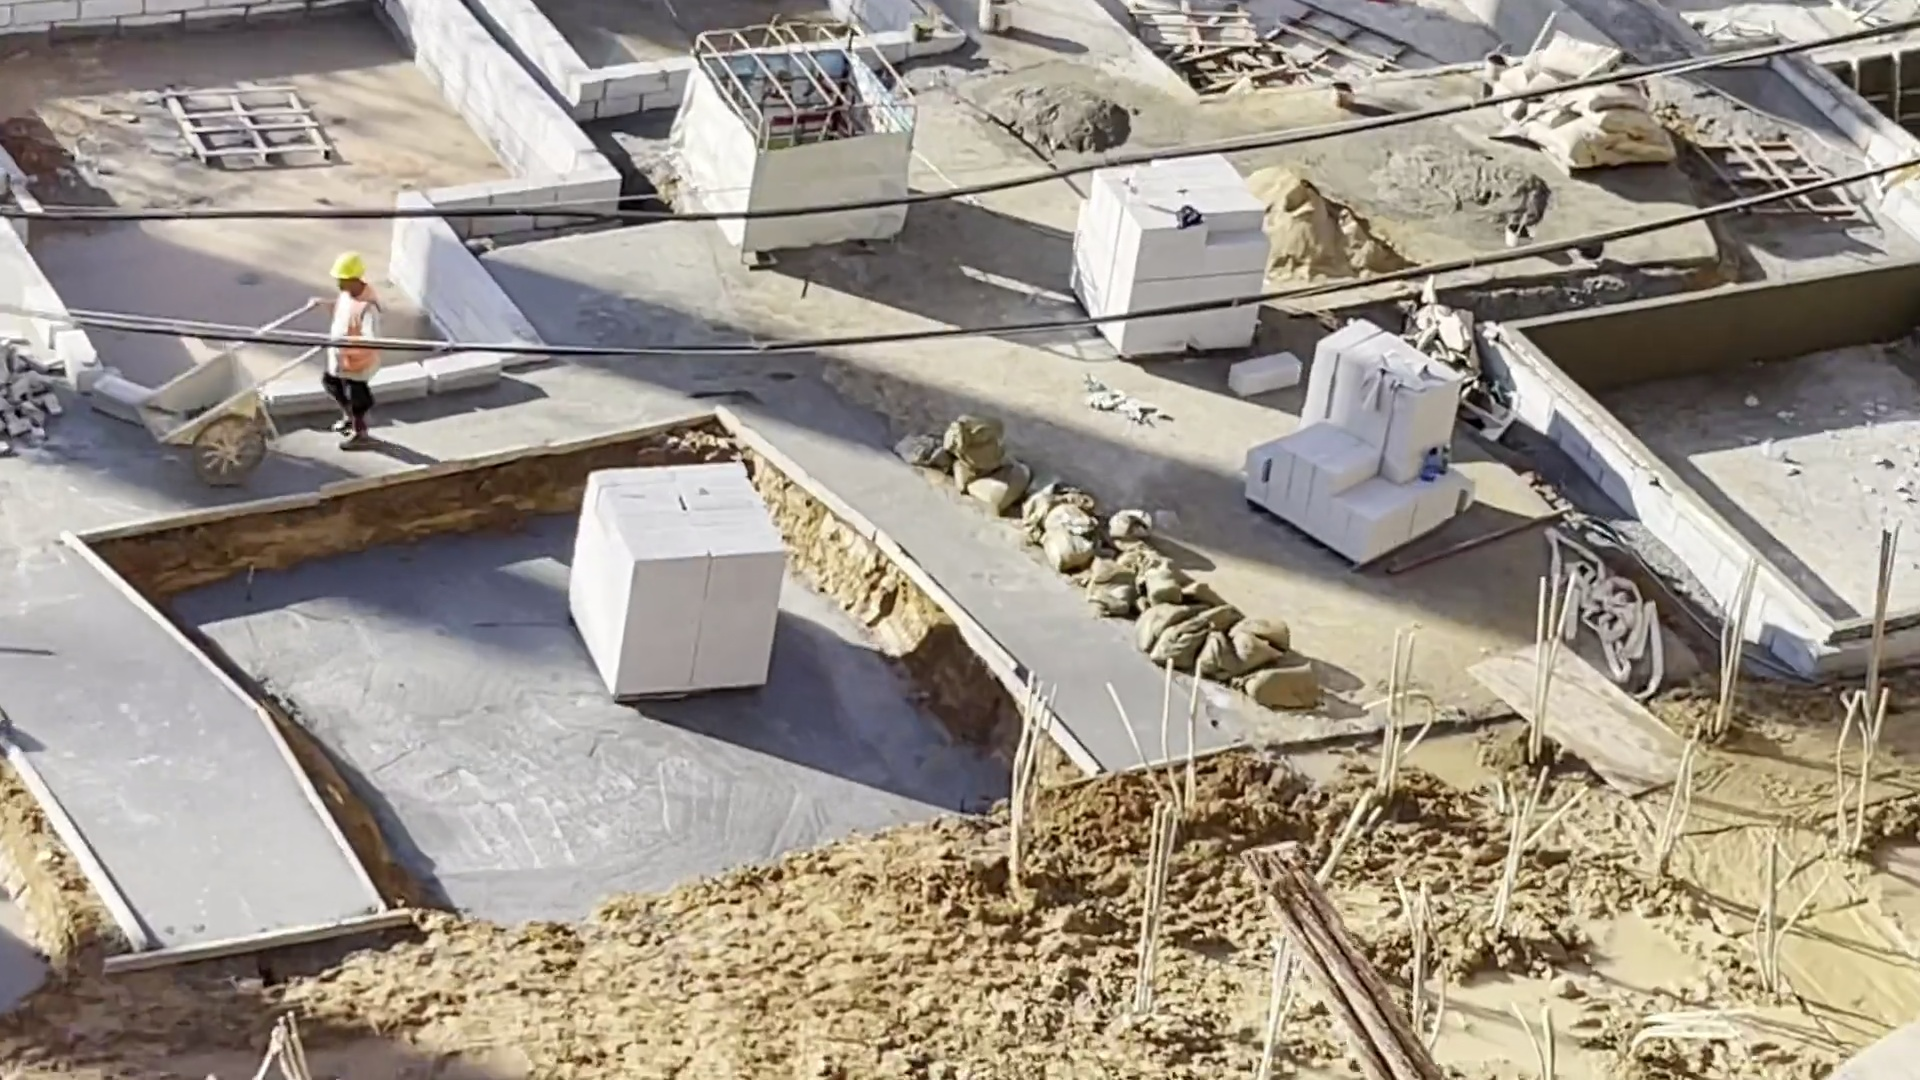brick: (1238, 317, 1482, 564), (552, 454, 793, 704), (1073, 168, 1283, 302)
handcart: (132, 353, 314, 495)
helmet: (329, 252, 367, 280)
person: (317, 246, 384, 454)
vest: (337, 286, 383, 379)
